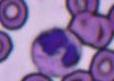N: (30, 27, 82, 78)
